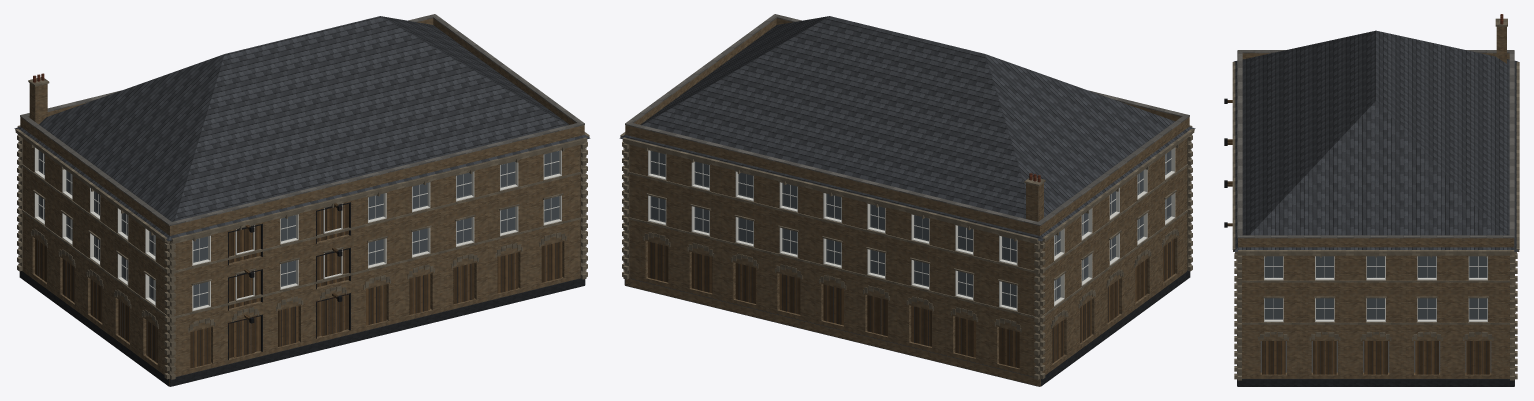
File: A_warehouse_3.glb
3 renders of one model, left to right at view 1: azimuth 30°, elevation 25°; view 2: azimuth 150°, elevation 25°; view 3: azimuth 270°, elevation 25°, orthographic. The views are drawn at different scales.
Parts seen in each view (by area): view 1: A_warehouse_3; view 2: A_warehouse_3; view 3: A_warehouse_3.
Boxes of the visible parts, x1,y1,x2,y2 form: A_warehouse_3: (14, 14, 590, 386); A_warehouse_3: (619, 14, 1195, 386); A_warehouse_3: (1224, 14, 1519, 386).
Bounding box in the file's own units: 32.76 × 18.17 × 21.35.
12 materials, 8 textured.
